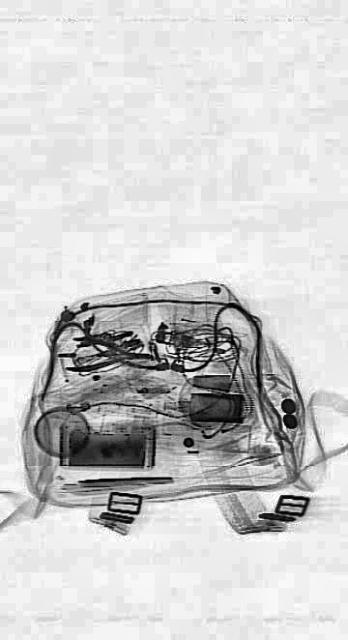Pliers: (64, 333, 148, 372)
